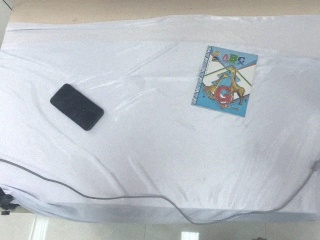book: (191, 45, 259, 118)
phone: (49, 83, 105, 132)
